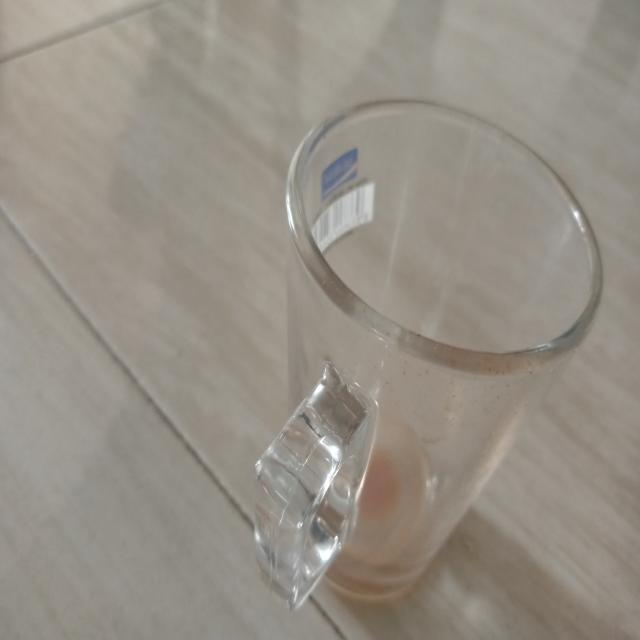glass-VX4N: (255, 100, 604, 640)
